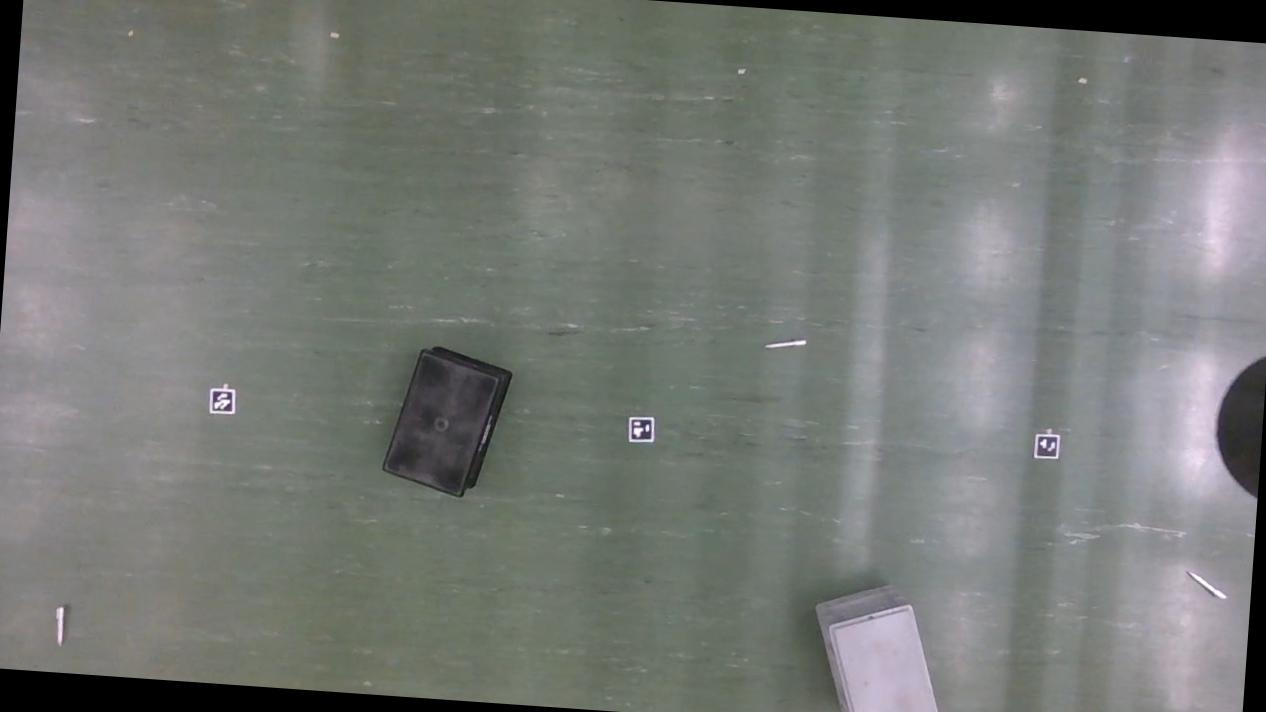probes: (1188, 570, 1226, 598), (766, 336, 805, 350), (56, 605, 66, 644)
rako: (381, 342, 514, 499), (804, 576, 950, 712)
